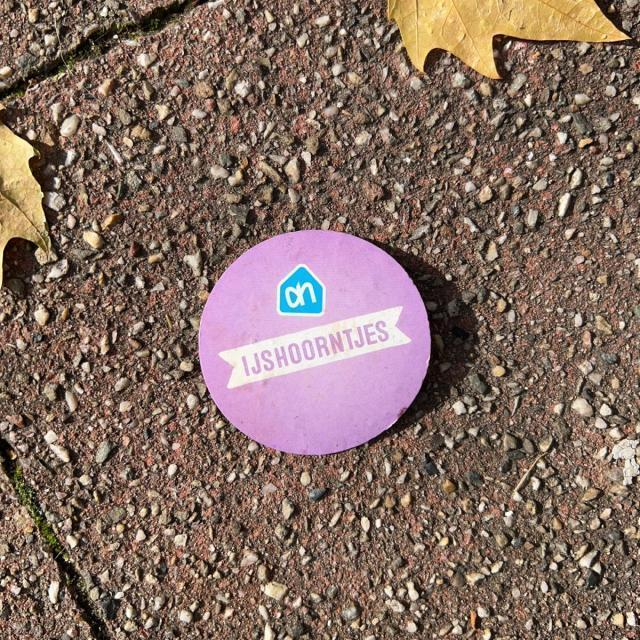Paper: (196, 226, 433, 459)
